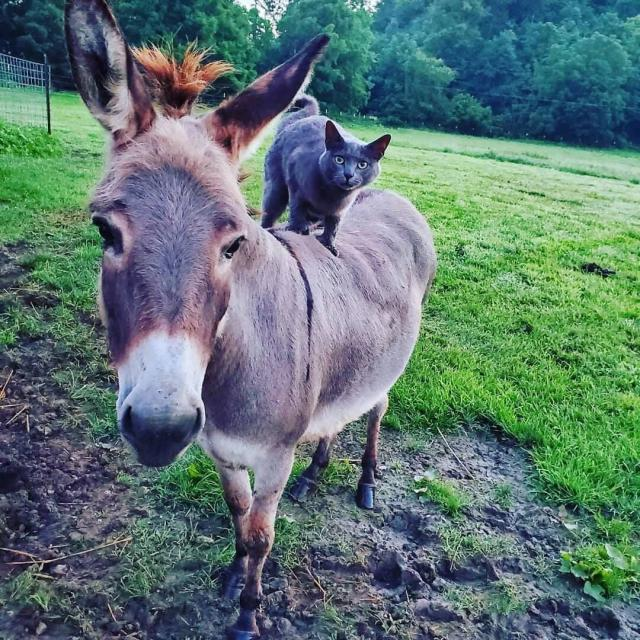cat: (261, 94, 391, 254)
donkey: (64, 0, 436, 639)
